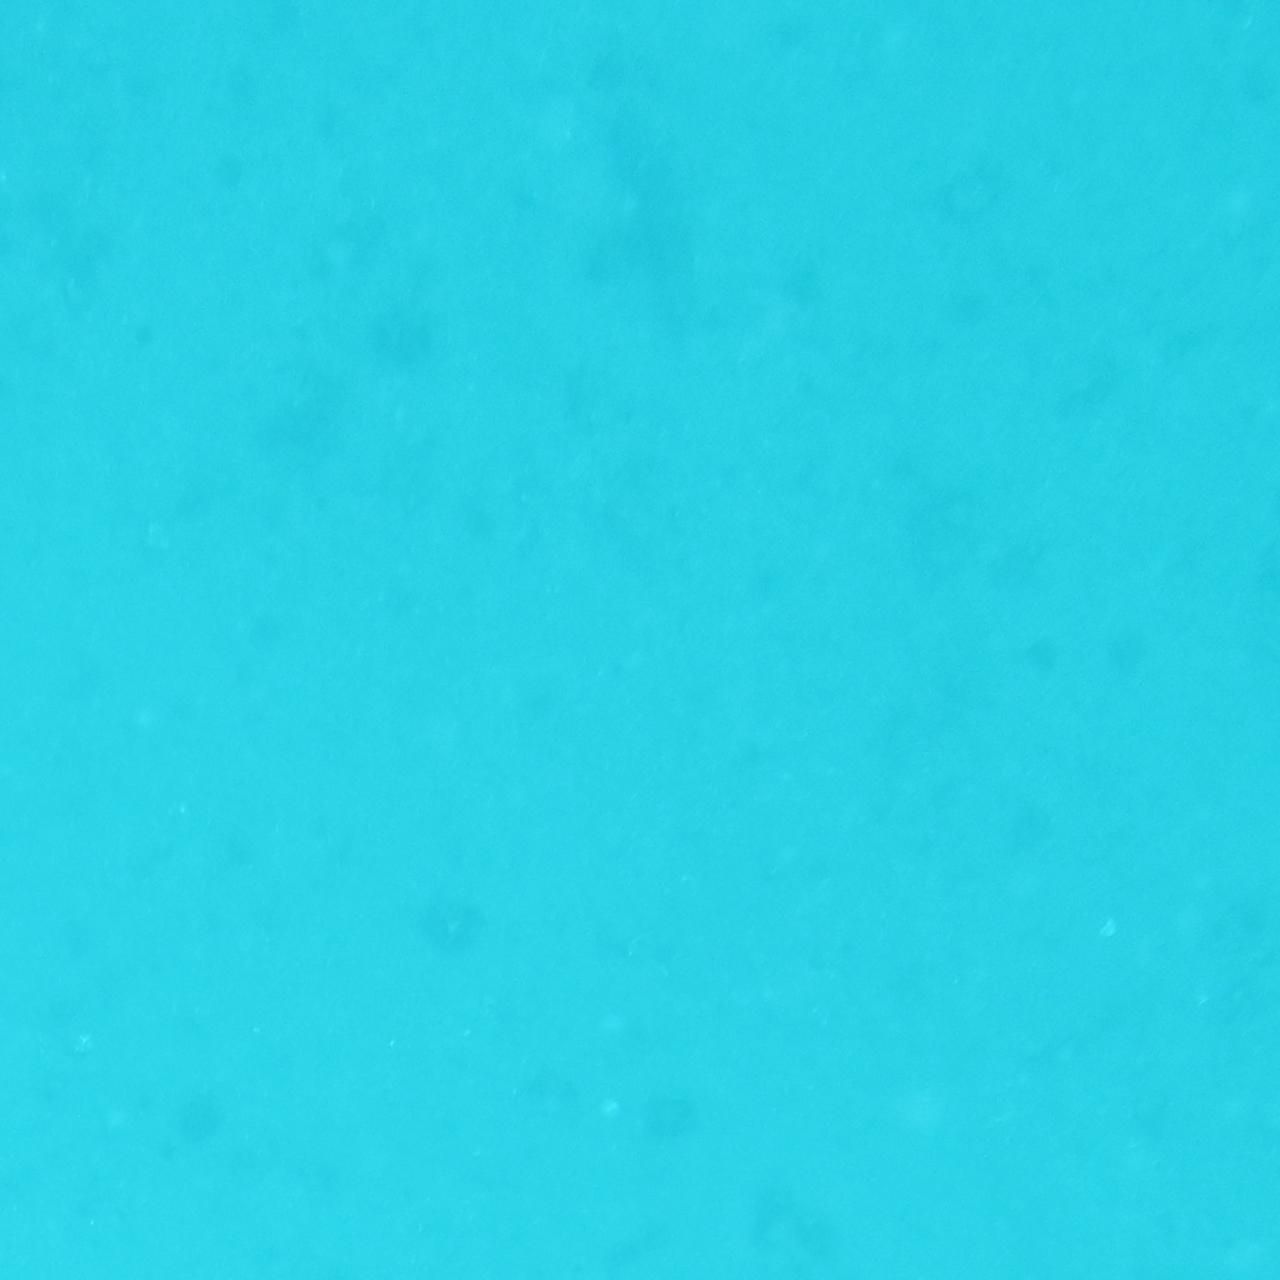Holothuria tubulosa: (560, 98, 720, 334)
